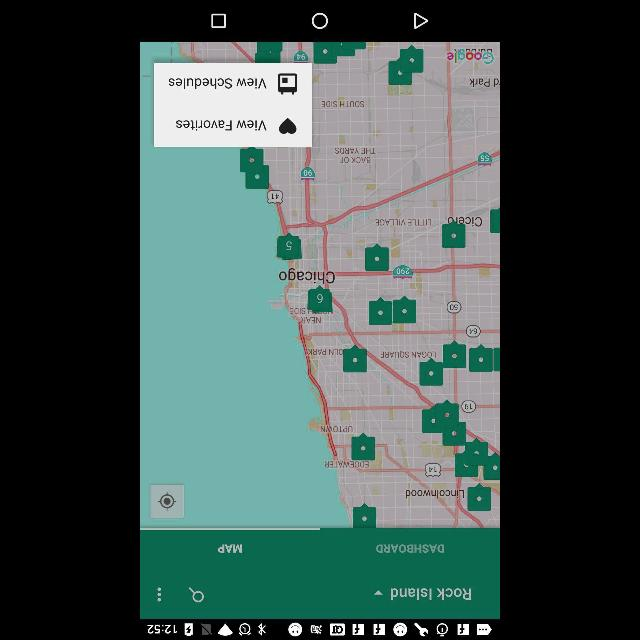icon: (158, 490, 178, 512), (278, 73, 298, 93), (369, 584, 388, 604), (188, 585, 206, 603), (210, 13, 228, 29), (312, 13, 328, 29), (414, 12, 428, 28), (280, 120, 296, 134), (156, 586, 162, 602)
map: (142, 42, 498, 526)
panel: (141, 2, 499, 40)
text: (389, 580, 477, 606), (174, 115, 266, 132), (168, 76, 266, 90)
textbutton: (320, 528, 498, 570), (142, 530, 320, 570), (154, 64, 312, 104), (156, 106, 312, 146)
uppertaskbar: (141, 618, 497, 638)
